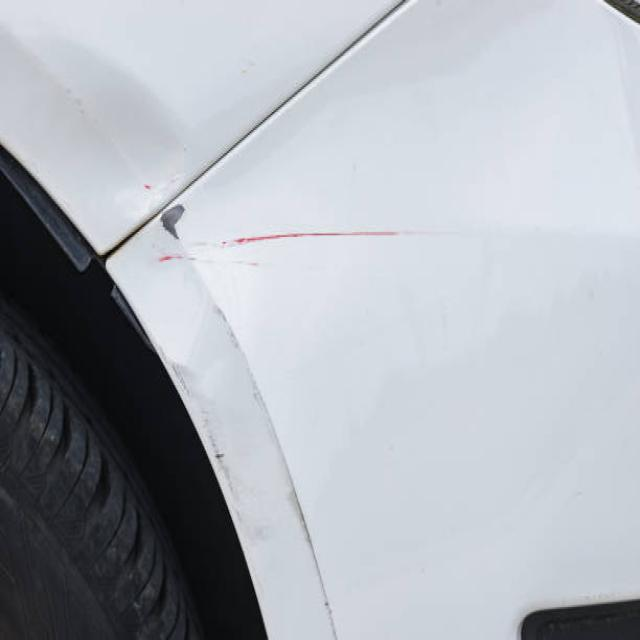scratch: (208, 298, 346, 635), (156, 202, 480, 274), (154, 332, 238, 505)
